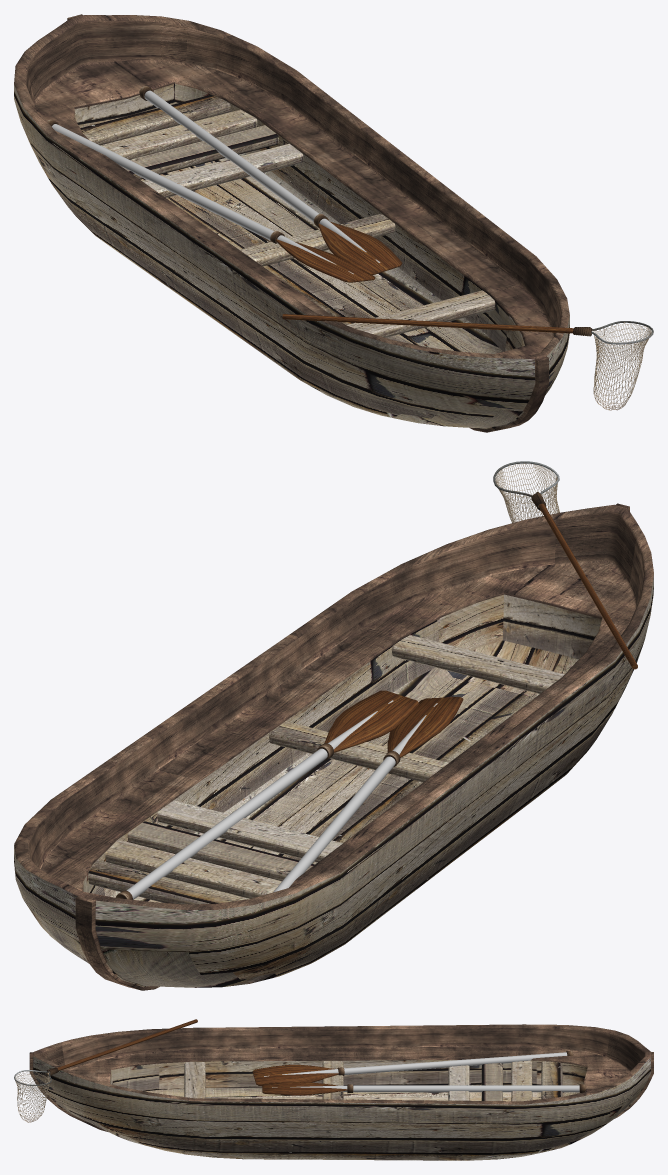
The model's file is Boat.obj.
3 renders of one model, top to bottom at view 1: azimuth 30°, elevation 25°; view 2: azimuth 150°, elevation 25°; view 3: azimuth 270°, elevation 25°, orthographic. The views are drawn at different scales.
Visible parts, largest first — view 1: Obj3d66-350133-8-85_网格.007, Obj3d66-350133-7-415_网格.006, Obj3d66-350133-17-623_网格.016, Obj3d66-350133-5-593_网格.004, Obj3d66-350133-4-723_网格.003, Obj3d66-350133-2-741_网格.001, Obj3d66-350133-3-18_网格.002, Obj3d66-350133-1-51_网格, Obj3d66-350133-12-266_网格.011, Obj3d66-350133-16-790_网格.015, Obj3d66-350133-14-315_网格.013, Obj3d66-350133-6-308_网格.005 (+2 smaller); view 2: Obj3d66-350133-8-85_网格.007, Obj3d66-350133-7-415_网格.006, Obj3d66-350133-1-51_网格, Obj3d66-350133-4-723_网格.003, Obj3d66-350133-3-18_网格.002, Obj3d66-350133-2-741_网格.001, Obj3d66-350133-6-308_网格.005, Obj3d66-350133-16-790_网格.015, Obj3d66-350133-14-315_网格.013, Obj3d66-350133-5-593_网格.004, Obj3d66-350133-12-266_网格.011, Obj3d66-350133-9-36_网格.008 (+2 smaller); view 3: Obj3d66-350133-8-85_网格.007, Obj3d66-350133-7-415_网格.006, Obj3d66-350133-16-790_网格.015, Obj3d66-350133-12-266_网格.011, Obj3d66-350133-9-36_网格.008, Obj3d66-350133-17-623_网格.016, Obj3d66-350133-14-315_网格.013, Obj3d66-350133-1-51_网格, Obj3d66-350133-4-723_网格.003, Obj3d66-350133-2-741_网格.001, Obj3d66-350133-5-593_网格.004, Obj3d66-350133-3-18_网格.002 (+2 smaller).
Boxes of the visible parts, x1,y1,x2,y2 form: Obj3d66-350133-8-85_网格.007: [14, 15, 569, 358]; Obj3d66-350133-7-415_网格.006: [14, 14, 569, 432]; Obj3d66-350133-17-623_网格.016: [592, 322, 651, 410]; Obj3d66-350133-5-593_网格.004: [80, 95, 230, 145]; Obj3d66-350133-4-723_网格.003: [100, 109, 257, 159]; Obj3d66-350133-2-741_网格.001: [122, 125, 278, 179]; Obj3d66-350133-3-18_网格.002: [142, 143, 303, 197]; Obj3d66-350133-1-51_网格: [346, 290, 495, 337]; Obj3d66-350133-12-266_网格.011: [51, 124, 353, 274]; Obj3d66-350133-16-790_网格.015: [144, 90, 380, 262]; Obj3d66-350133-14-315_网格.013: [318, 221, 402, 274]; Obj3d66-350133-6-308_网格.005: [239, 213, 395, 266]; Obj3d66-350133-8-85_网格.007: [14, 504, 653, 909]; Obj3d66-350133-7-415_网格.006: [14, 503, 653, 990]; Obj3d66-350133-1-51_网格: [392, 635, 564, 693]; Obj3d66-350133-4-723_网格.003: [105, 839, 281, 898]; Obj3d66-350133-3-18_网格.002: [157, 800, 342, 862]; Obj3d66-350133-2-741_网格.001: [127, 821, 314, 881]; Obj3d66-350133-6-308_网格.005: [269, 721, 448, 782]; Obj3d66-350133-16-790_网格.015: [126, 700, 393, 899]; Obj3d66-350133-14-315_网格.013: [324, 690, 419, 752]; Obj3d66-350133-5-593_网格.004: [88, 860, 249, 904]; Obj3d66-350133-12-266_网格.011: [273, 703, 437, 892]; Obj3d66-350133-9-36_网格.008: [387, 697, 463, 757]; Obj3d66-350133-8-85_网格.007: [33, 1024, 651, 1104]; Obj3d66-350133-7-415_网格.006: [29, 1052, 653, 1160]; Obj3d66-350133-16-790_网格.015: [272, 1085, 579, 1092]; Obj3d66-350133-12-266_网格.011: [264, 1052, 567, 1076]; Obj3d66-350133-9-36_网格.008: [252, 1064, 338, 1085]; Obj3d66-350133-17-623_网格.016: [15, 1071, 50, 1122]; Obj3d66-350133-14-315_网格.013: [262, 1082, 347, 1095]; Obj3d66-350133-1-51_网格: [184, 1062, 205, 1098]; Obj3d66-350133-4-723_网格.003: [511, 1060, 532, 1101]; Obj3d66-350133-2-741_网格.001: [481, 1063, 502, 1100]; Obj3d66-350133-5-593_网格.004: [541, 1061, 562, 1098]; Obj3d66-350133-3-18_网格.002: [448, 1060, 469, 1100].
Bounding box in the file's own units: 3.5 × 1.72 × 11.1.
